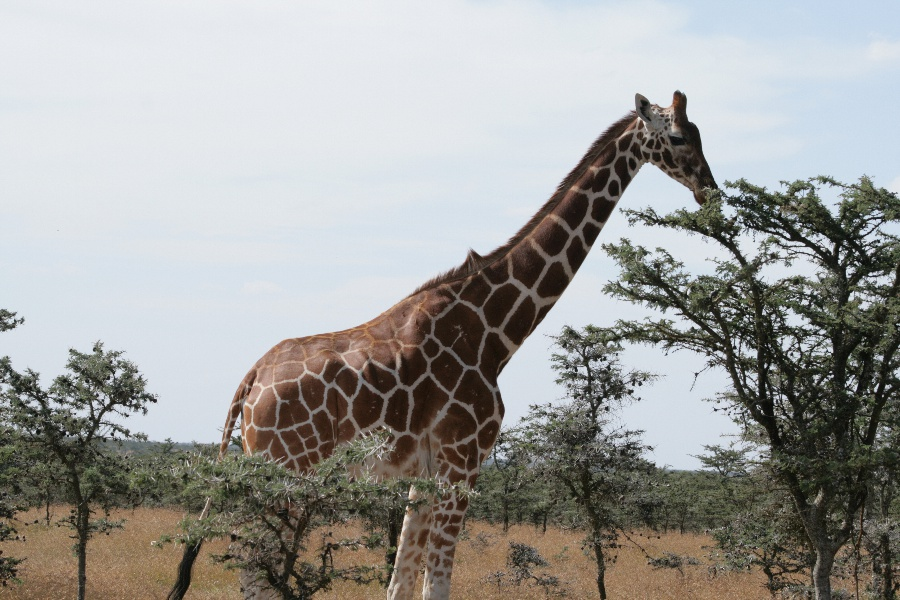giraffe: (197, 73, 729, 597)
